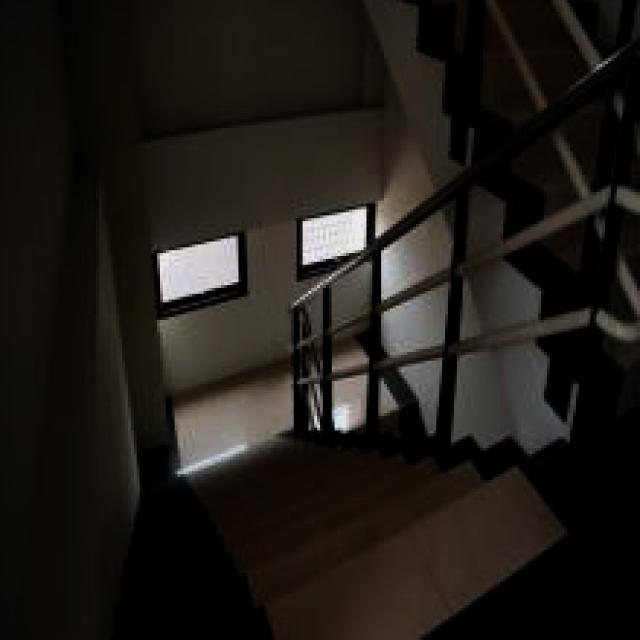downstair: (132, 457, 640, 640)
